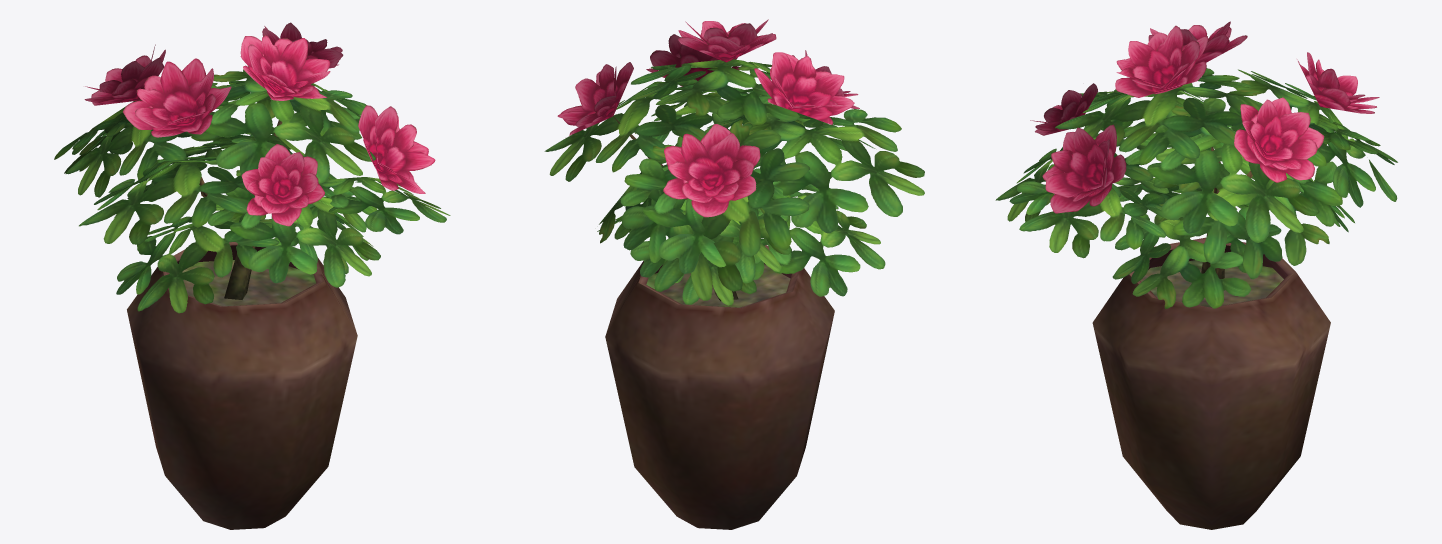
Rendered from wm_灌木盆栽08.fbx.
The picture shows the model from 3 angles, left to right: view 1: azimuth 30°, elevation 25°; view 2: azimuth 150°, elevation 25°; view 3: azimuth 270°, elevation 25°; orthographic projection.
Visible parts, largest first — view 1: wm_灌木盆栽08; view 2: wm_灌木盆栽08; view 3: wm_灌木盆栽08.
Boxes of the visible parts, x1,y1,x2,y2 form: wm_灌木盆栽08: (54,22,450,529); wm_灌木盆栽08: (544,19,924,529); wm_灌木盆栽08: (995,21,1397,529).
Size of the model in its own units: 141 by 169 by 146.
